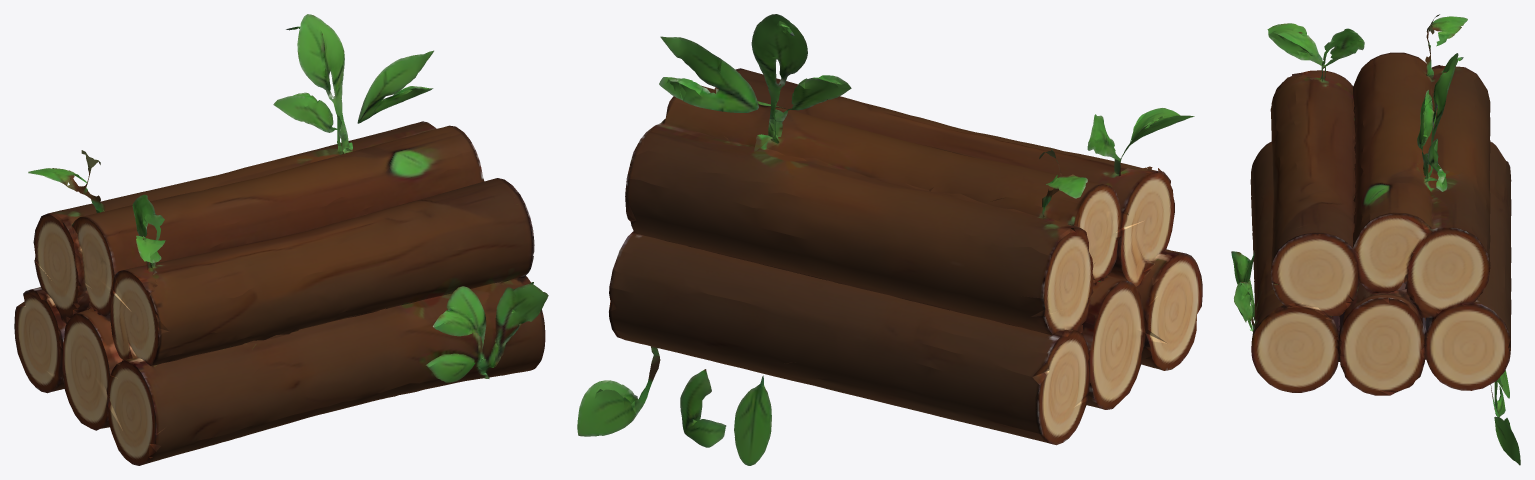
Rendered from Node_Timber.glb.
3 renders of one model, left to right at view 1: azimuth 30°, elevation 25°; view 2: azimuth 150°, elevation 25°; view 3: azimuth 270°, elevation 25°, orthographic. The views are drawn at different scales.
Parts seen in each view (by area): view 1: Node_Timber; view 2: Node_Timber; view 3: Node_Timber.
Part boxes in pixels (bbox=[...]): Node_Timber: bbox=[14, 14, 548, 465]; Node_Timber: bbox=[577, 14, 1202, 465]; Node_Timber: bbox=[1231, 14, 1520, 465].
Size of the model in its own units: 1.89 by 1.67 by 1.25.
1 material, 1 textured.
